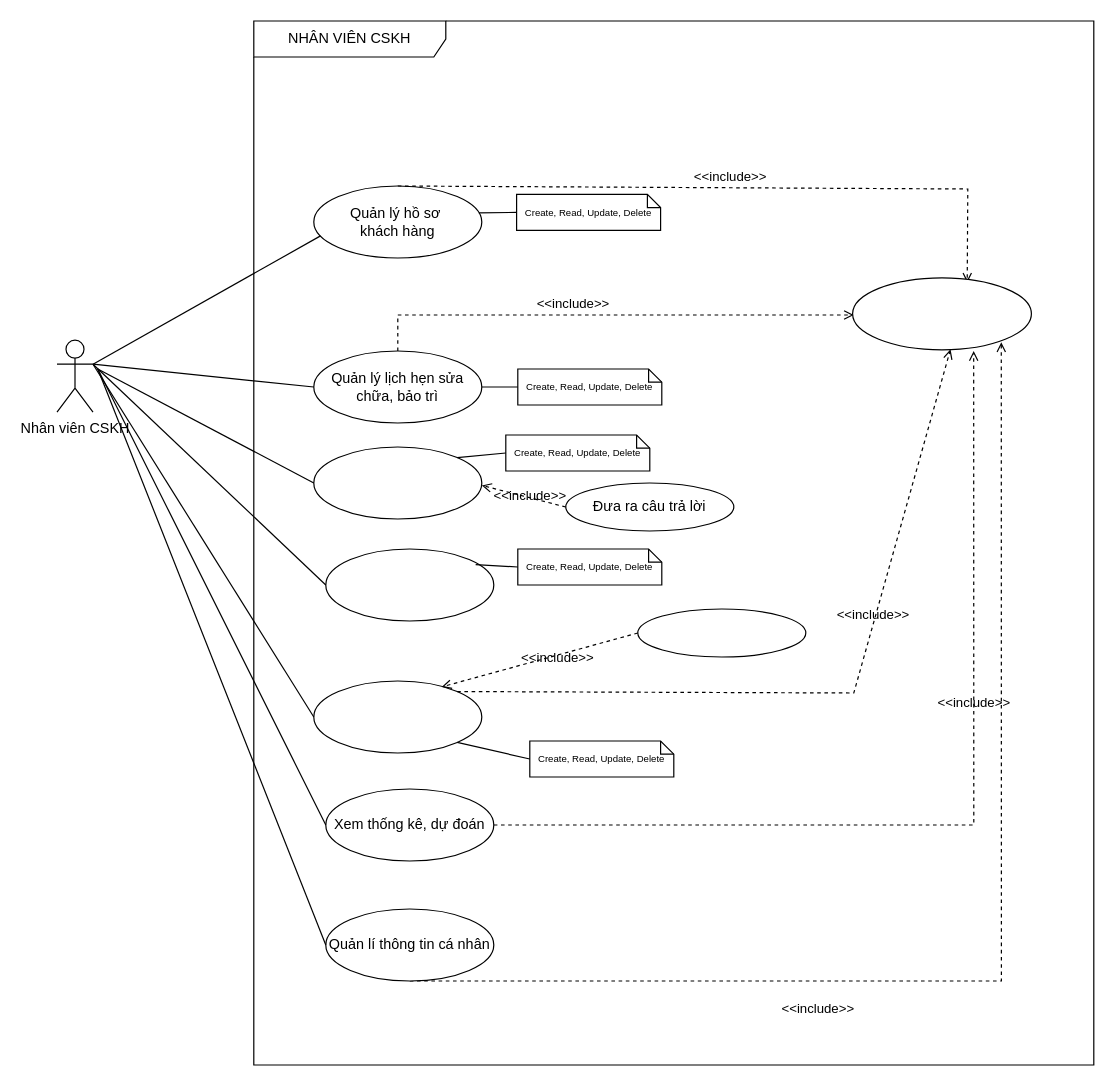
This 1115x1086 diagram has some shape labels left out. The shapes that lost their labels are listed below. From the top down, each one's centre as x and y in pixels, then its label:
(941,313): Đăng nhập
(397,482): Quản lý câu hỏi thường gặp
(409,584): Quản lý loại câu hỏi thường gặp
(721,632): Phản hồi đánh giá KH
(397,716): Quản lý đánh giá khách hàng
